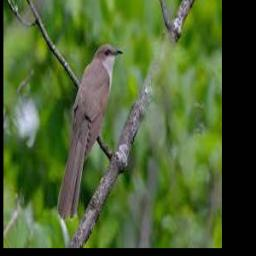Cuckoo: (57, 44, 123, 220)
